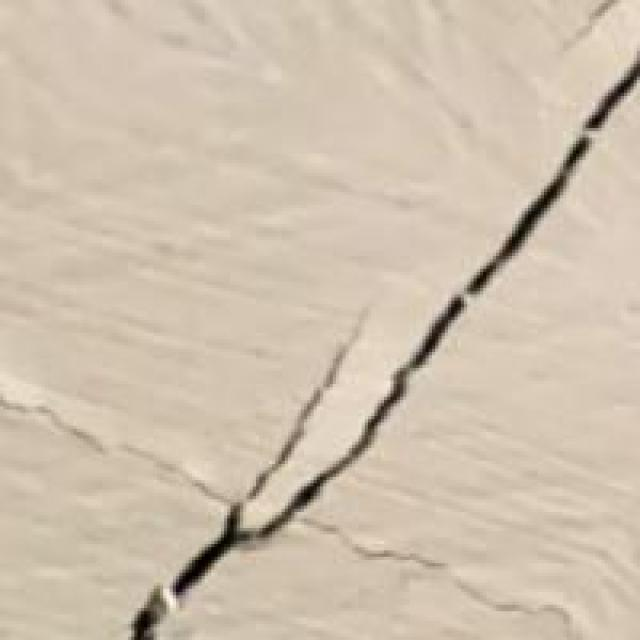Crack: (134, 61, 637, 637)
